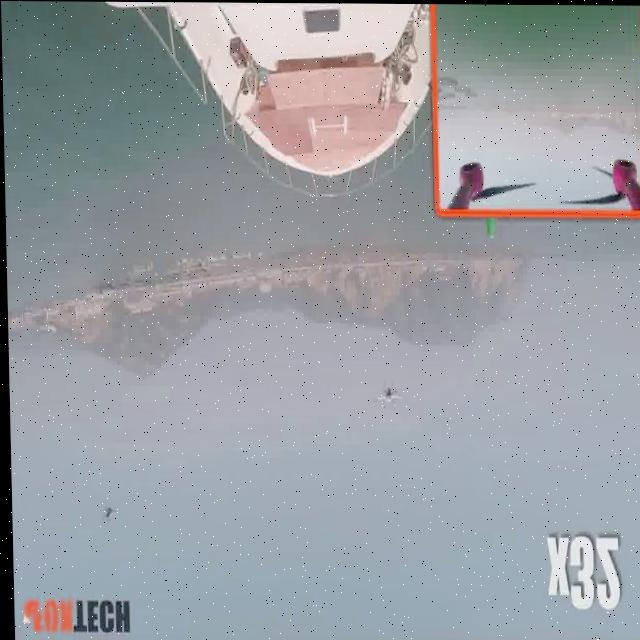drone: (363, 369, 408, 428)
